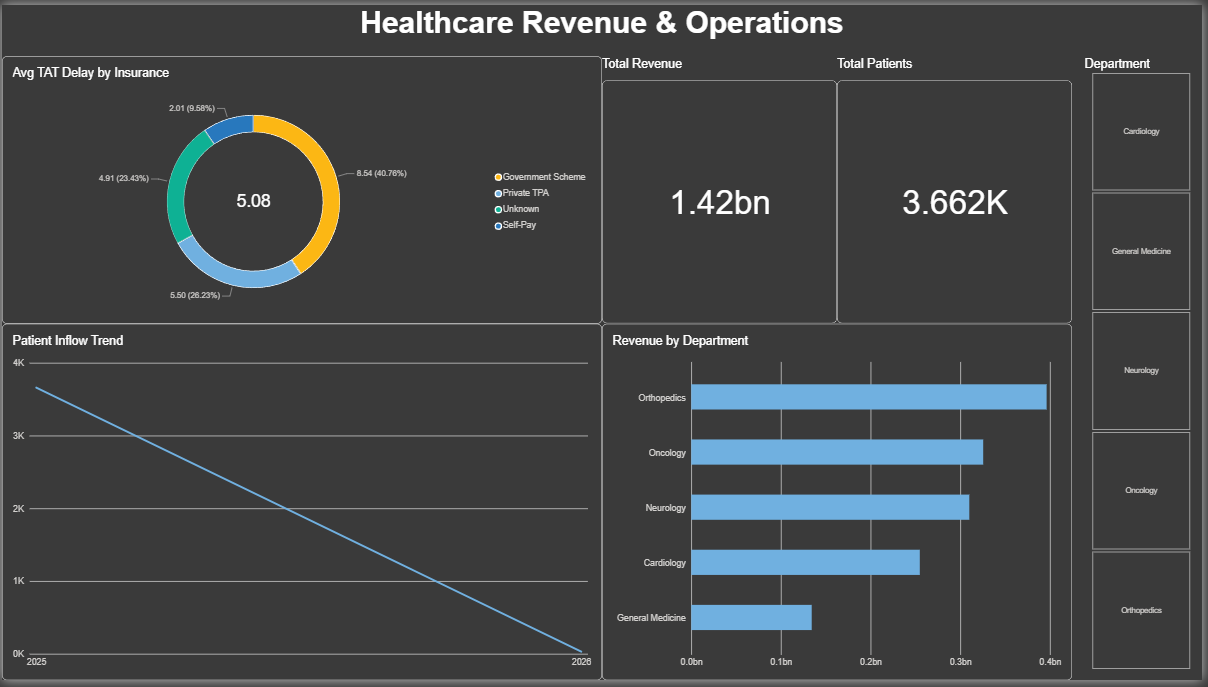

Layout of this report page (visuals, bound fields, positions):
{"tool":"powerbi","page":{"name":"Page 1","canvas":[1920,1080],"ordinal":0},"visuals":[{"type":"cardVisual","title":"Total Patients","fields":{"Data":["Count(Final_SQL_Ready_Data.Patient_ID)"]},"box":[1336,82,376,428],"z":0},{"type":"cardVisual","title":"Total Revenue","fields":{"Data":["Sum(Final_SQL_Ready_Data.Total_Billed_Amount)"]},"box":[960,82,376,428],"z":1000},{"type":"clusteredBarChart","title":"Revenue by Department","fields":{"Category":["Final_SQL_Ready_Data.Department"],"Y":["Sum(Final_SQL_Ready_Data.Total_Billed_Amount)"]},"box":[960,510,752,570],"z":2000},{"type":"donutChart","title":"Avg TAT Delay by Insurance","fields":{"Category":["Final_SQL_Ready_Data.Payer_Mix"],"Y":["Avg(Final_SQL_Ready_Data.TAT_Delay_Hours)"]},"box":[0,82,960,428],"z":3000},{"type":"lineChart","title":"Patient Inflow Trend","fields":{"Category":["Final_SQL_Ready_Data.Admission_Date.Variation.Date Hierarchy.Year","Final_SQL_Ready_Data.Admission_Date.Variation.Date Hierarchy.Quarter","Final_SQL_Ready_Data.Admission_Date.Variation.Date Hierarchy.Month","Final_SQL_Ready_Data.Admission_Date.Variation.Date Hierarchy.Day"],"Y":["Count(Final_SQL_Ready_Data.Patient_ID)"]},"box":[0,510,960,570],"z":4000},{"type":"slicer","fields":{"Values":["Final_SQL_Ready_Data.Department"]},"box":[1724,82,196,982],"z":5000},{"type":"textbox","box":[0,0,1920,82],"z":6000}]}

Visuals, with their boxes in screenshot pixels (x1, y1, x2, y2), scaled from the page's 1920x1080 canvas onto the 1208x687 screenshot:
"Total Patients" cardVisual: rect(841, 52, 1077, 324)
"Total Revenue" cardVisual: rect(604, 52, 841, 324)
"Revenue by Department" clusteredBarChart: rect(604, 324, 1077, 686)
"Avg TAT Delay by Insurance" donutChart: rect(0, 52, 604, 324)
"Patient Inflow Trend" lineChart: rect(0, 324, 604, 686)
slicer - Final_SQL_Ready_Data.Department: rect(1085, 52, 1207, 677)
textbox: rect(0, 0, 1207, 52)
